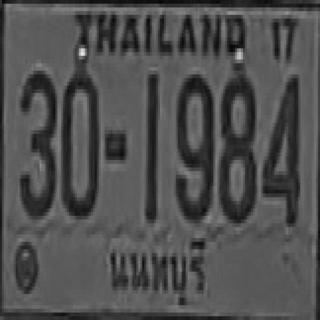N00: (61, 67, 97, 216)
N01: (144, 74, 156, 220)
N03: (18, 67, 55, 216)
N04: (261, 71, 298, 223)
N08: (217, 71, 255, 219)
N09: (174, 71, 211, 219)
P37: (103, 233, 212, 307)
